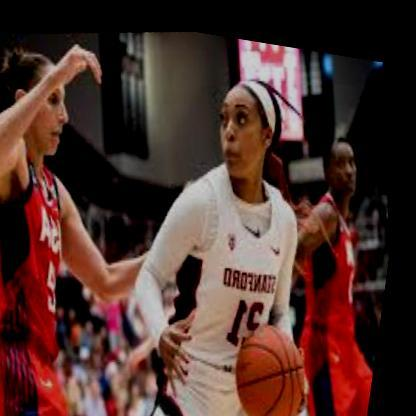basketball: (231, 304, 329, 416)
